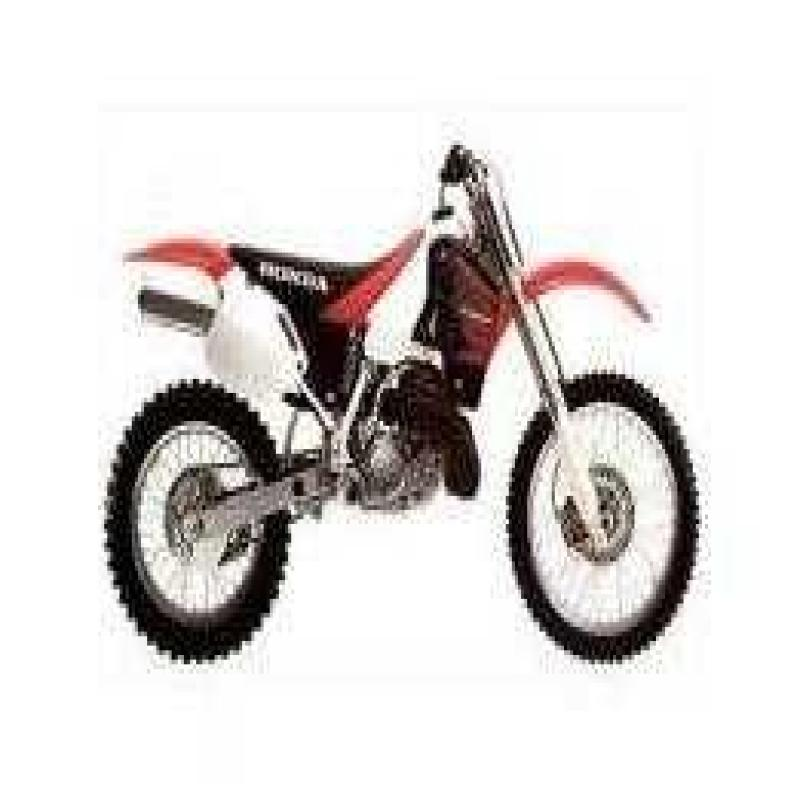bike: (84, 102, 709, 656)
